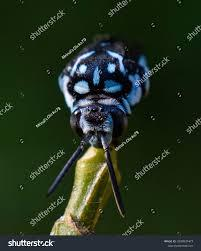Thyreus: (43, 31, 146, 220)
